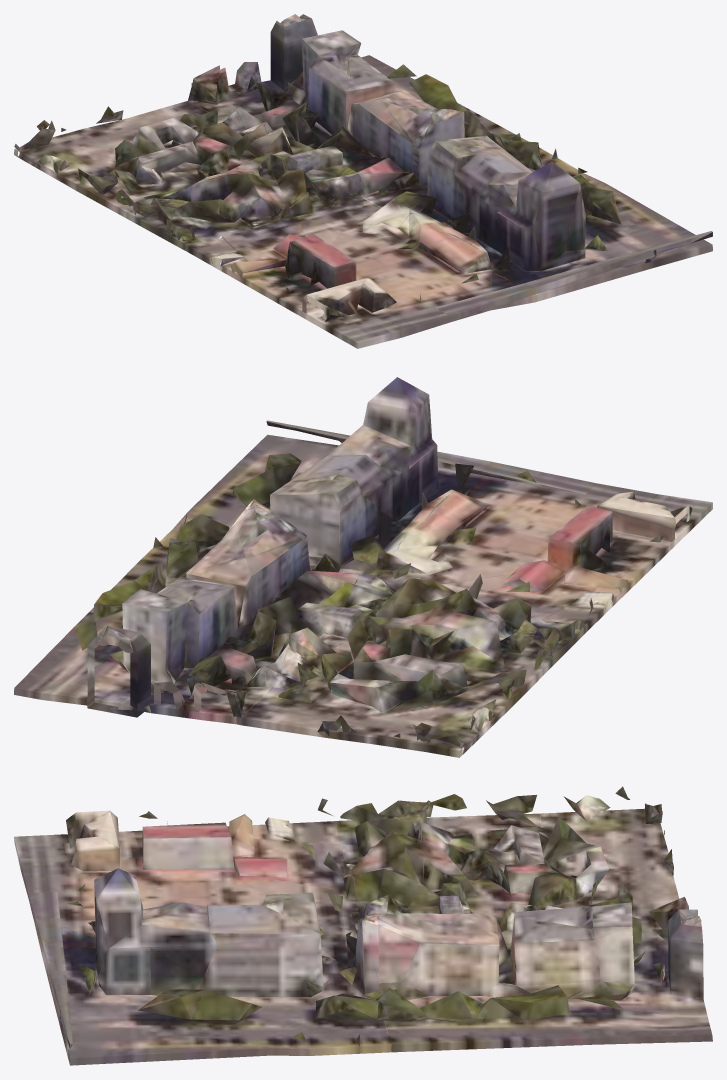
3 views of the same model, one above another, from view 1: azimuth 30°, elevation 25°; view 2: azimuth 150°, elevation 25°; view 3: azimuth 270°, elevation 25° (orthographic). The views are drawn at different scales.
Parts seen in each view (by area): view 1: Mesh_0; view 2: Mesh_0; view 3: Mesh_0.
Boxes of the visible parts, x1=… form: Mesh_0: x1=14, y1=14, x2=712, y2=348; Mesh_0: x1=14, y1=377, x2=712, y2=757; Mesh_0: x1=14, y1=786, x2=712, y2=1065.
Size of the model in its own units: 266 by 66.94 by 330.
Materials: 2 (2 with a texture image).
